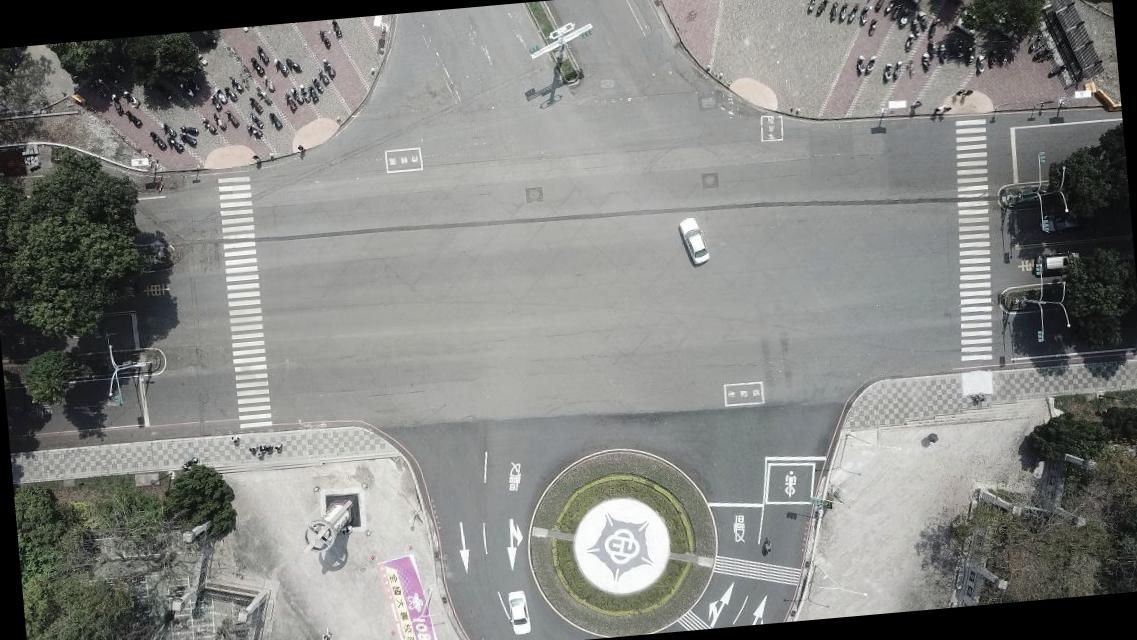vehicle: (676, 216, 710, 269), (506, 588, 532, 636), (1036, 248, 1082, 273)
